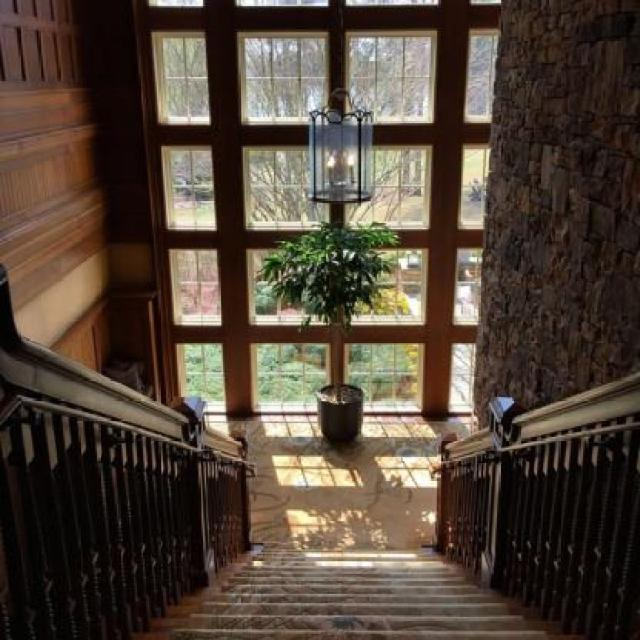stair: (128, 543, 596, 640)
